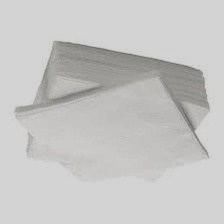tissue: (7, 35, 217, 191)
